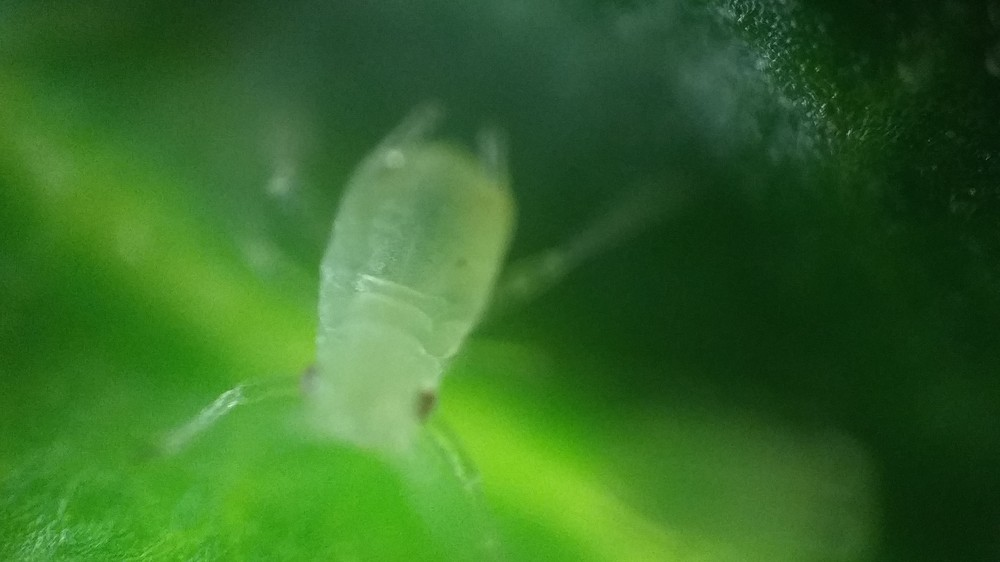Pulgon: (169, 110, 672, 544)
